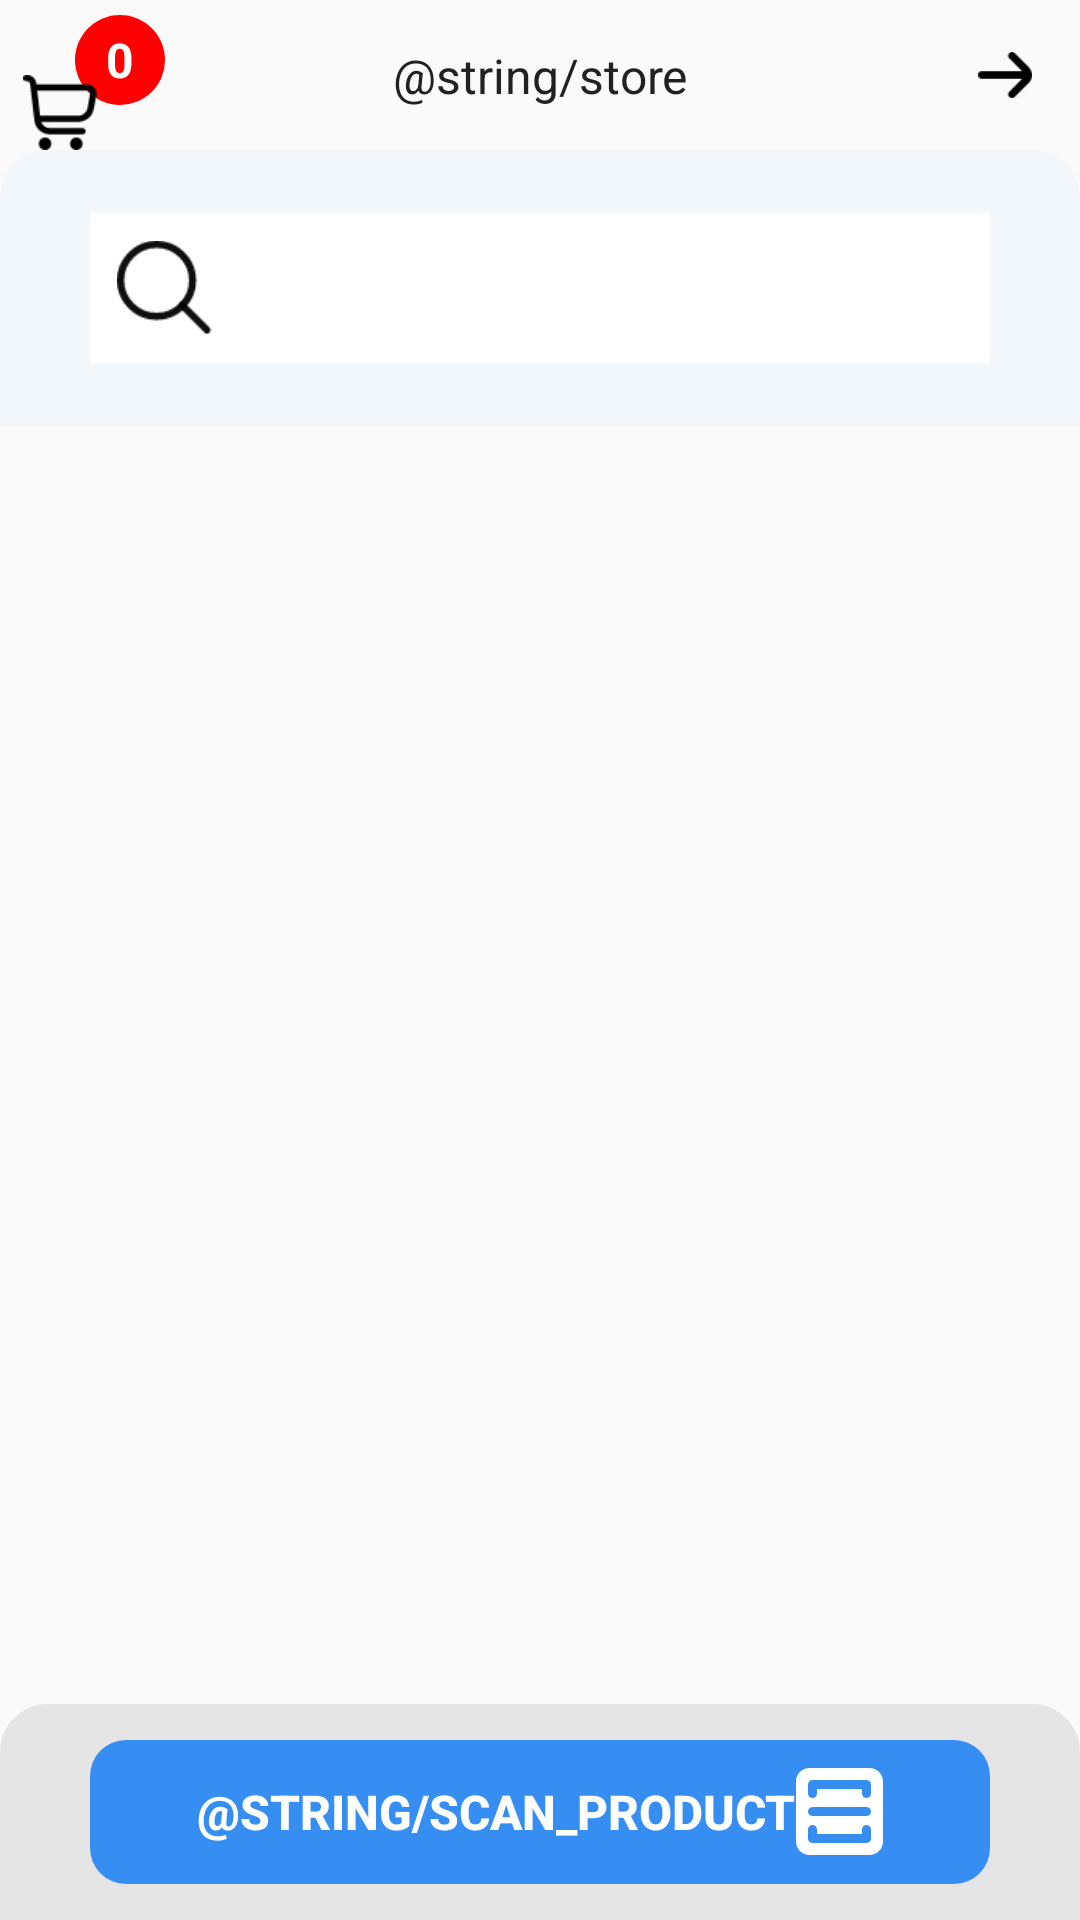

Where icons sit on this 1080*1920 app screen, as bbox=(x1, y1, x2, y2):
search: bbox=(90, 213, 240, 363)
shopping cart: bbox=(23, 75, 120, 150)
